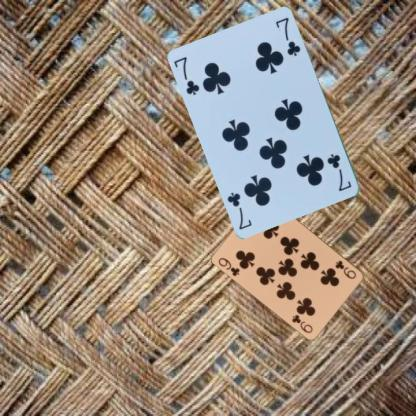7c: (324, 151, 354, 193), (172, 54, 202, 96)
9c: (216, 254, 241, 277), (333, 258, 358, 280)
